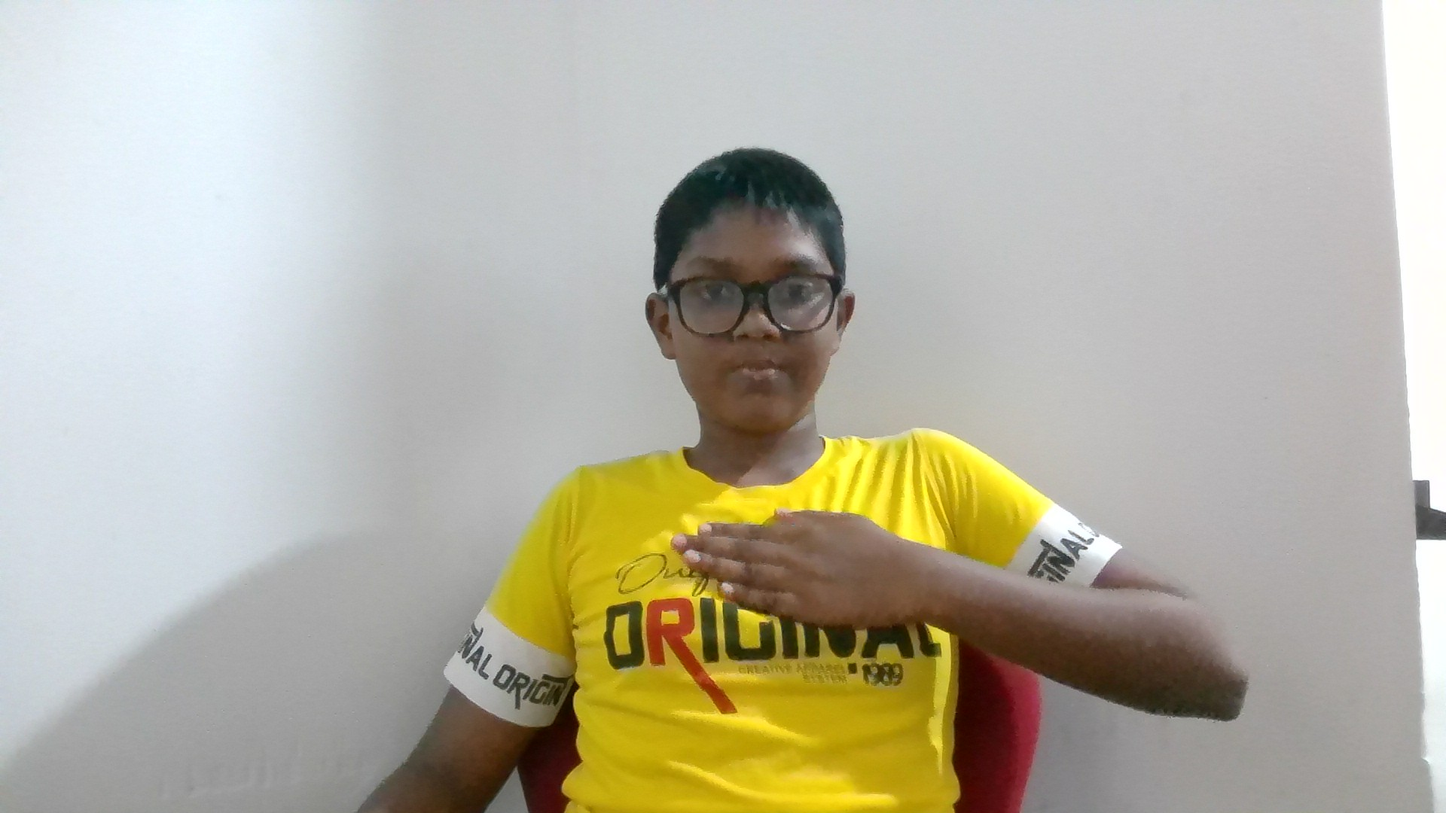Please: (608, 486, 1142, 715)
